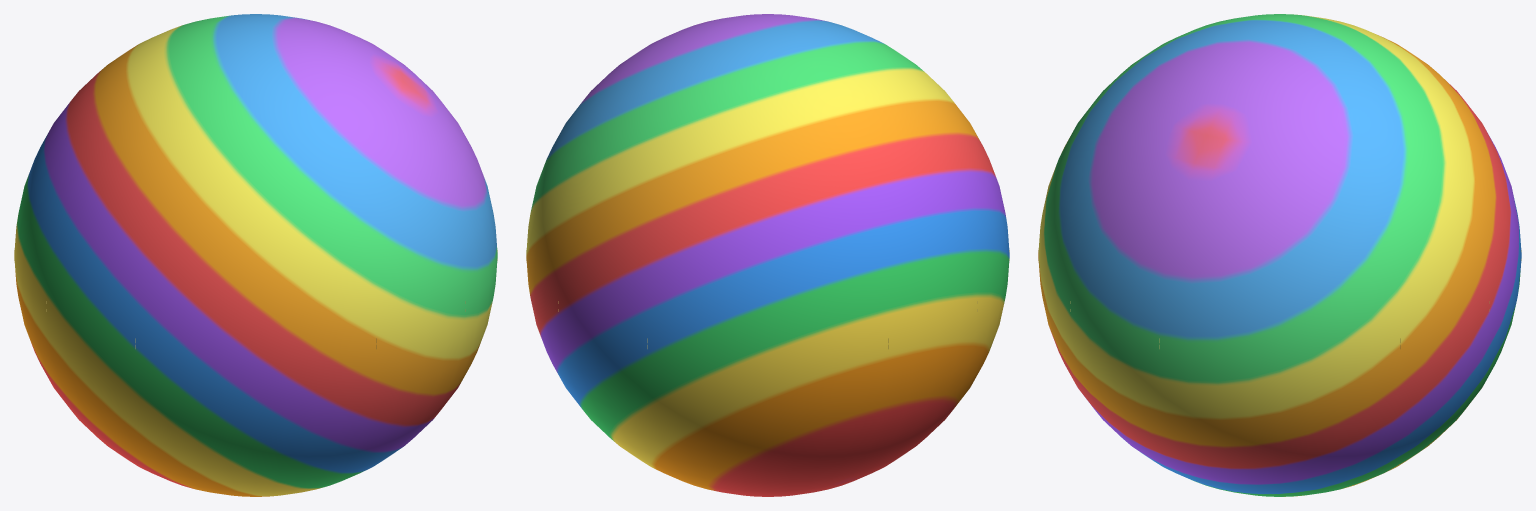
The model's file is SuperBounce.glb.
3 views of the same model, side by side, from view 1: azimuth 30°, elevation 25°; view 2: azimuth 150°, elevation 25°; view 3: azimuth 270°, elevation 25° (orthographic).
Visible parts, largest first — view 1: RainbowShell; view 2: RainbowShell; view 3: RainbowShell.
Part boxes in pixels (left/top/right/bottom): RainbowShell: left=14, top=14, right=497, bottom=496; RainbowShell: left=526, top=14, right=1009, bottom=496; RainbowShell: left=1038, top=14, right=1521, bottom=496.
Size of the model in its own units: 2 by 2 by 2.
1 material, 1 textured.
